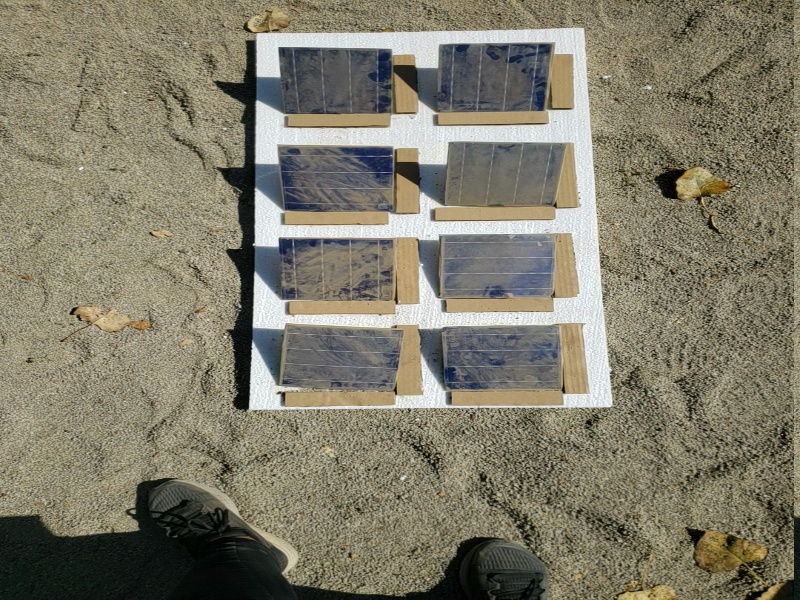dirty: (278, 323, 406, 393), (277, 46, 396, 119), (443, 140, 565, 210), (435, 328, 567, 391), (281, 145, 397, 216), (438, 46, 557, 114), (436, 235, 564, 298), (274, 239, 398, 301)
